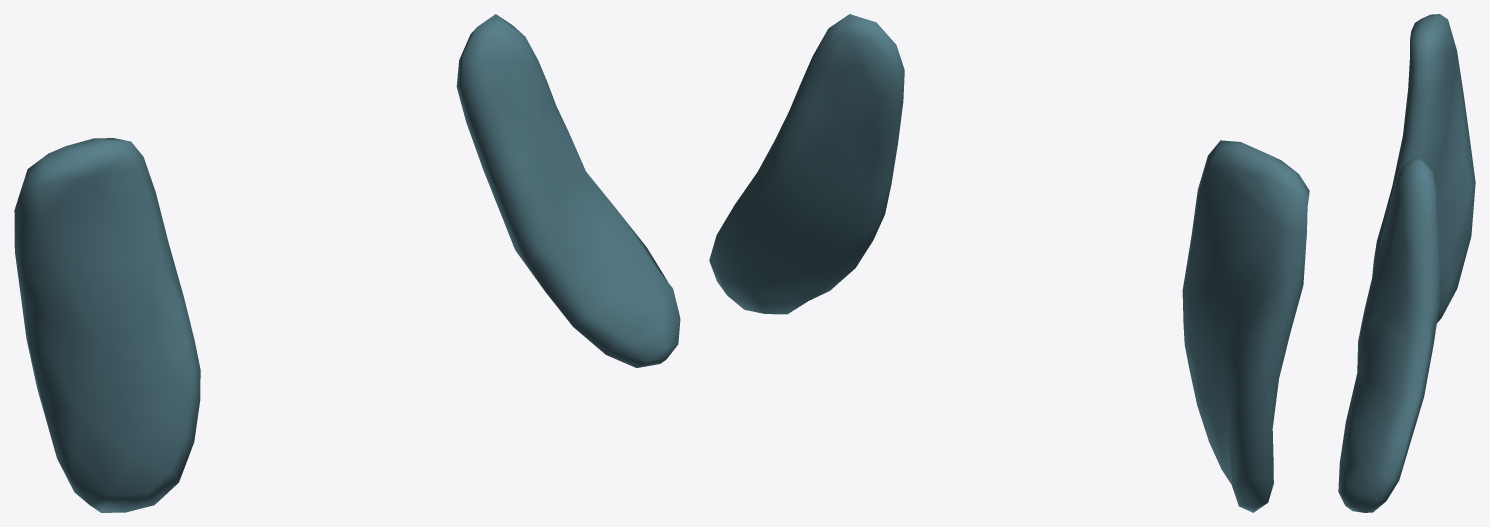
File: Flexor_digitorum_superficialis-middle_phalanx_of_5th_finger.r_G.glb
The picture shows the model from 3 angles, left to right: view 1: azimuth 30°, elevation 25°; view 2: azimuth 150°, elevation 25°; view 3: azimuth 270°, elevation 25°; orthographic projection. The views are drawn at different scales.
Parts seen in each view (by area): view 1: Flexor_digitorum_superficialis-middle_phalanx_of_5th_finger.; view 2: Flexor_digitorum_superficialis-middle_phalanx_of_5th_finger.; view 3: Flexor_digitorum_superficialis-middle_phalanx_of_5th_finger..
Part boxes in pixels (<box>): Flexor_digitorum_superficialis-middle_phalanx_of_5th_finger.: <box>14,14,680,512</box>; Flexor_digitorum_superficialis-middle_phalanx_of_5th_finger.: <box>709,14,1309,512</box>; Flexor_digitorum_superficialis-middle_phalanx_of_5th_finger.: <box>1338,14,1475,512</box>.
Size of the model in its own units: 0.00782 by 0.00479 by 0.00175.
